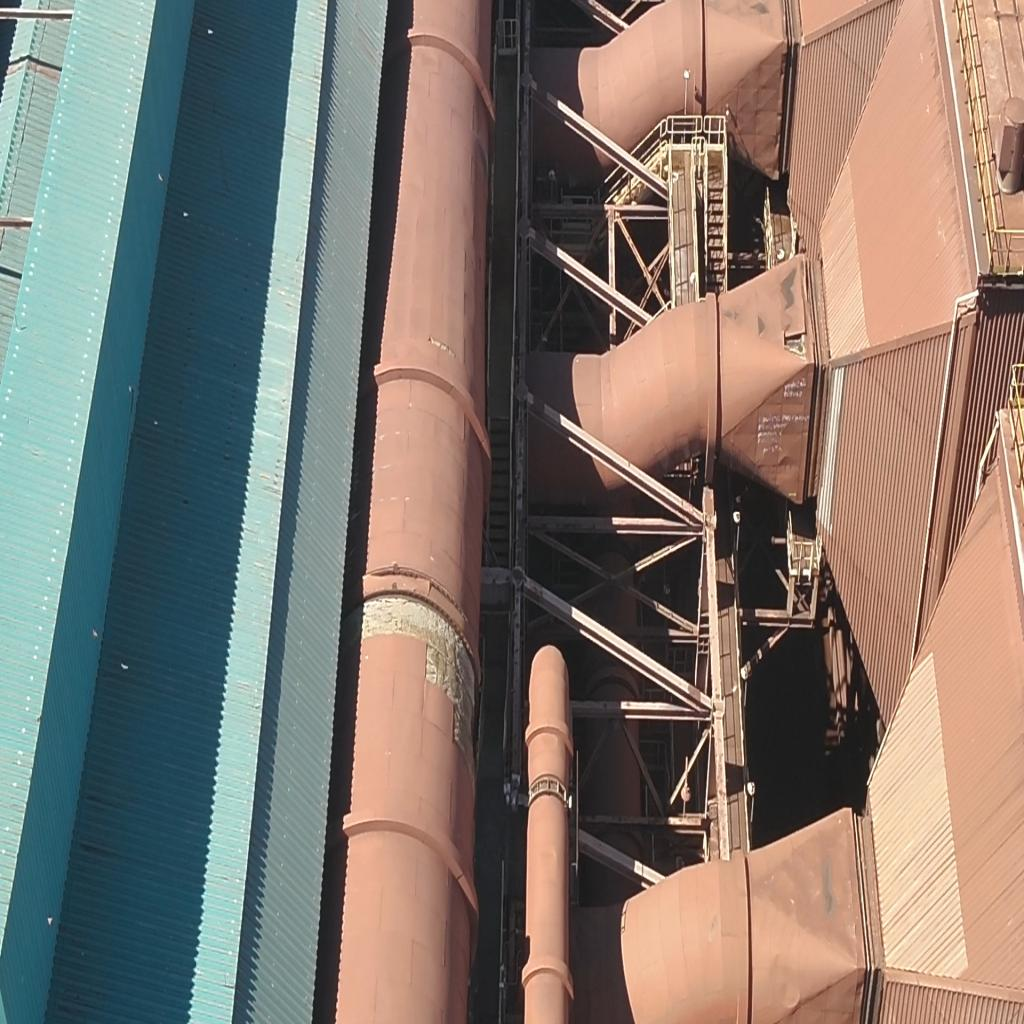Failures: (349, 576, 479, 756), (780, 316, 810, 373)
